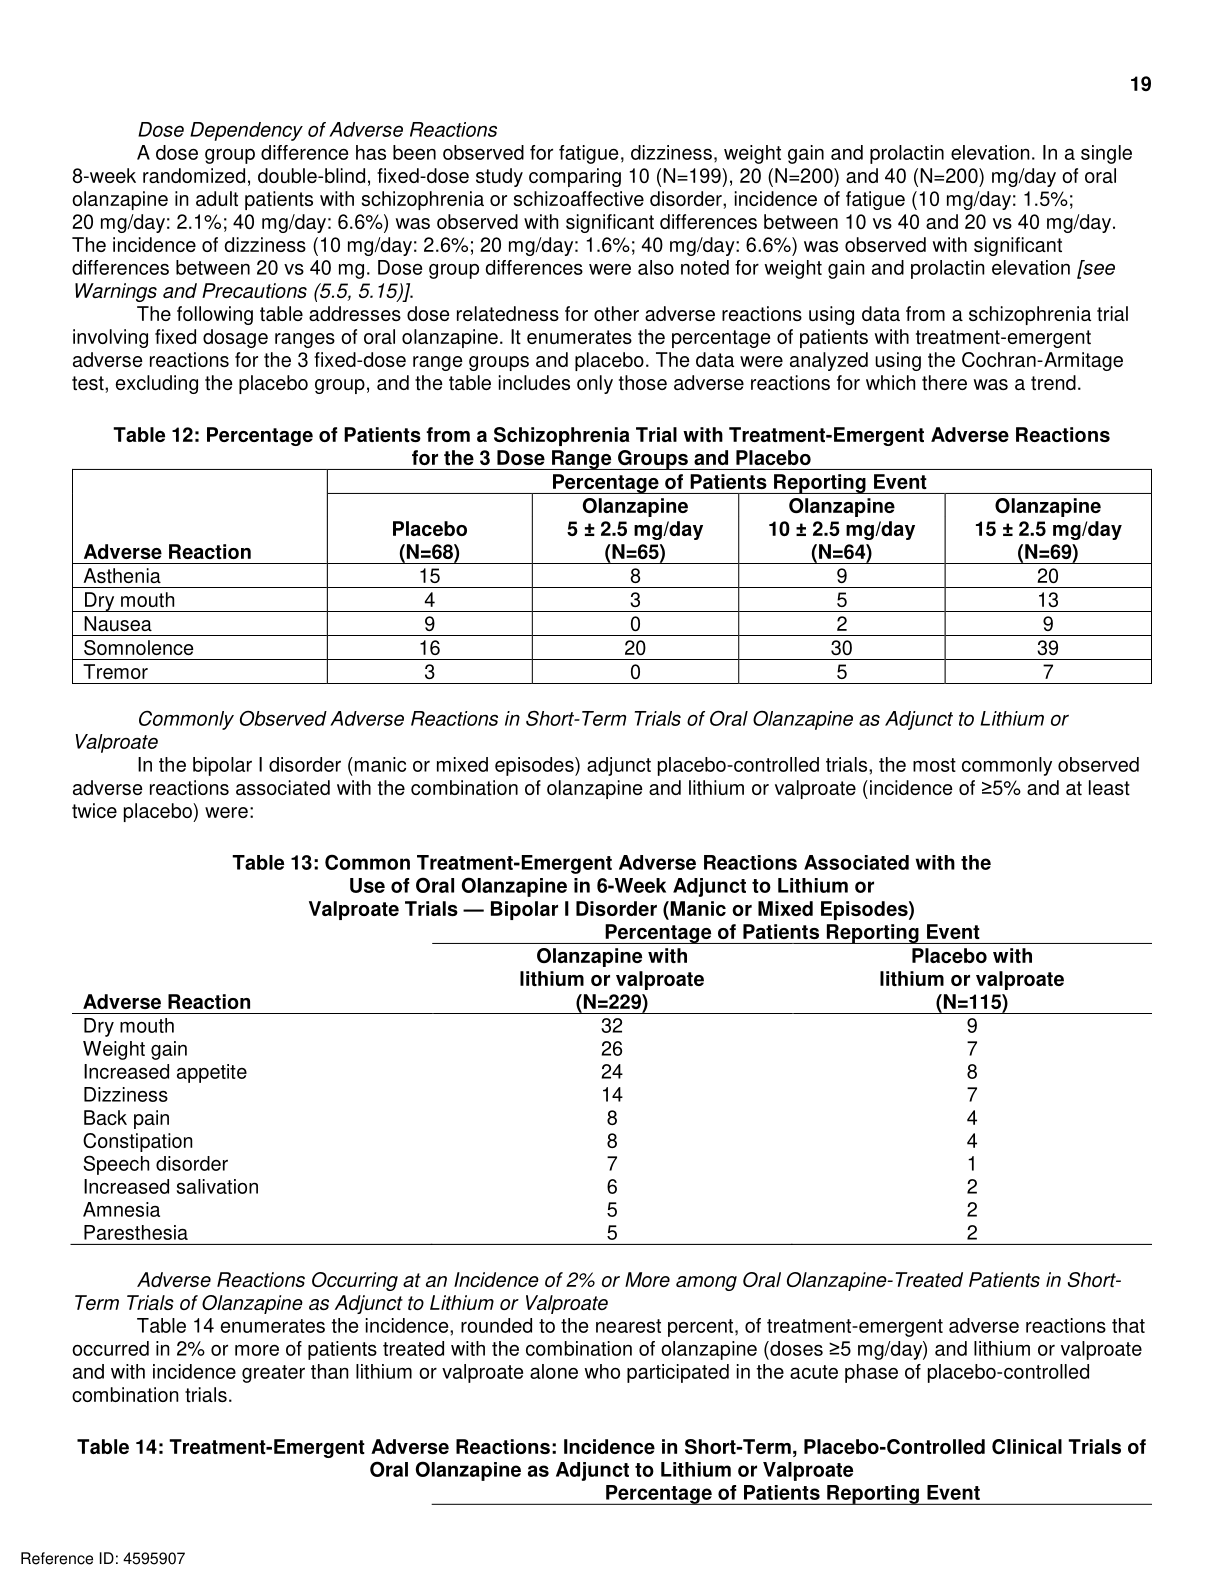merged_cells: (71, 467, 1153, 685)
partial_lined: (69, 942, 1153, 1246)
